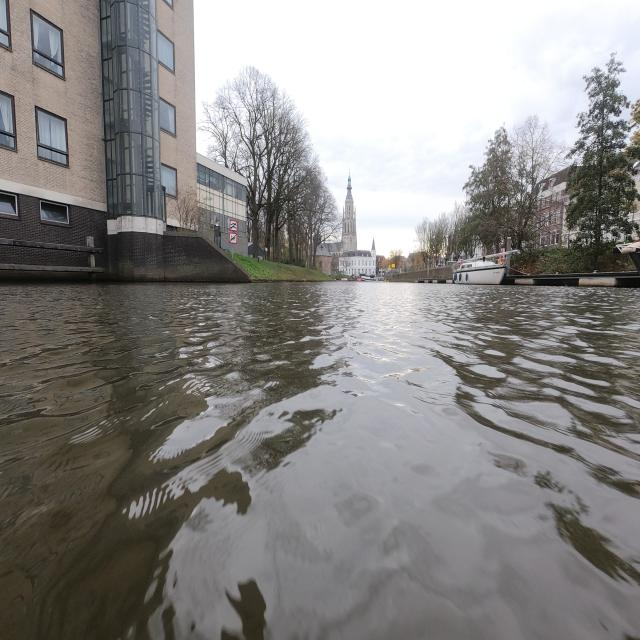boat: (453, 259, 506, 285)
dock: (502, 272, 640, 287)
grass: (234, 253, 332, 281)
sky: (195, 0, 640, 255)
tree: (566, 54, 638, 267)
wall: (107, 231, 250, 282)
water: (0, 281, 640, 640)
